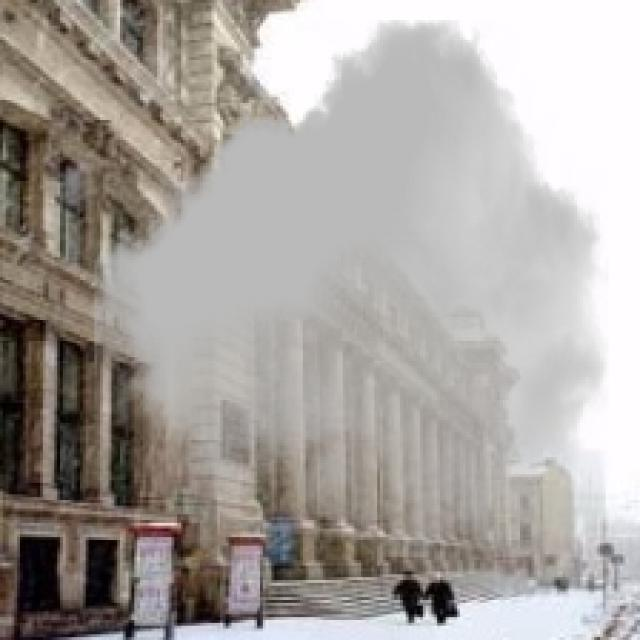Smoke: (94, 20, 609, 557)
